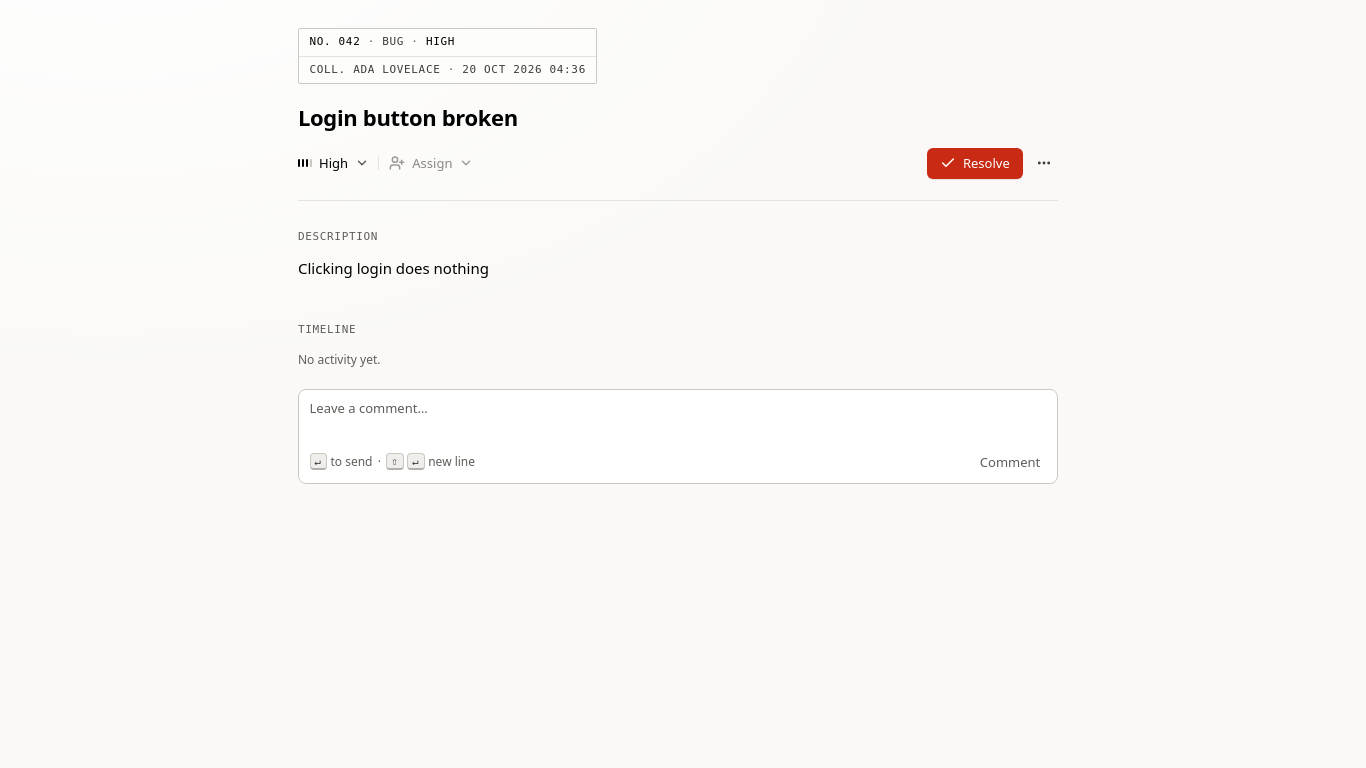
Scenario: BugDetail › Esc closes the popover
Click the button "Resolve": (975, 163) top-left (927, 148), bottom-right (1023, 179)
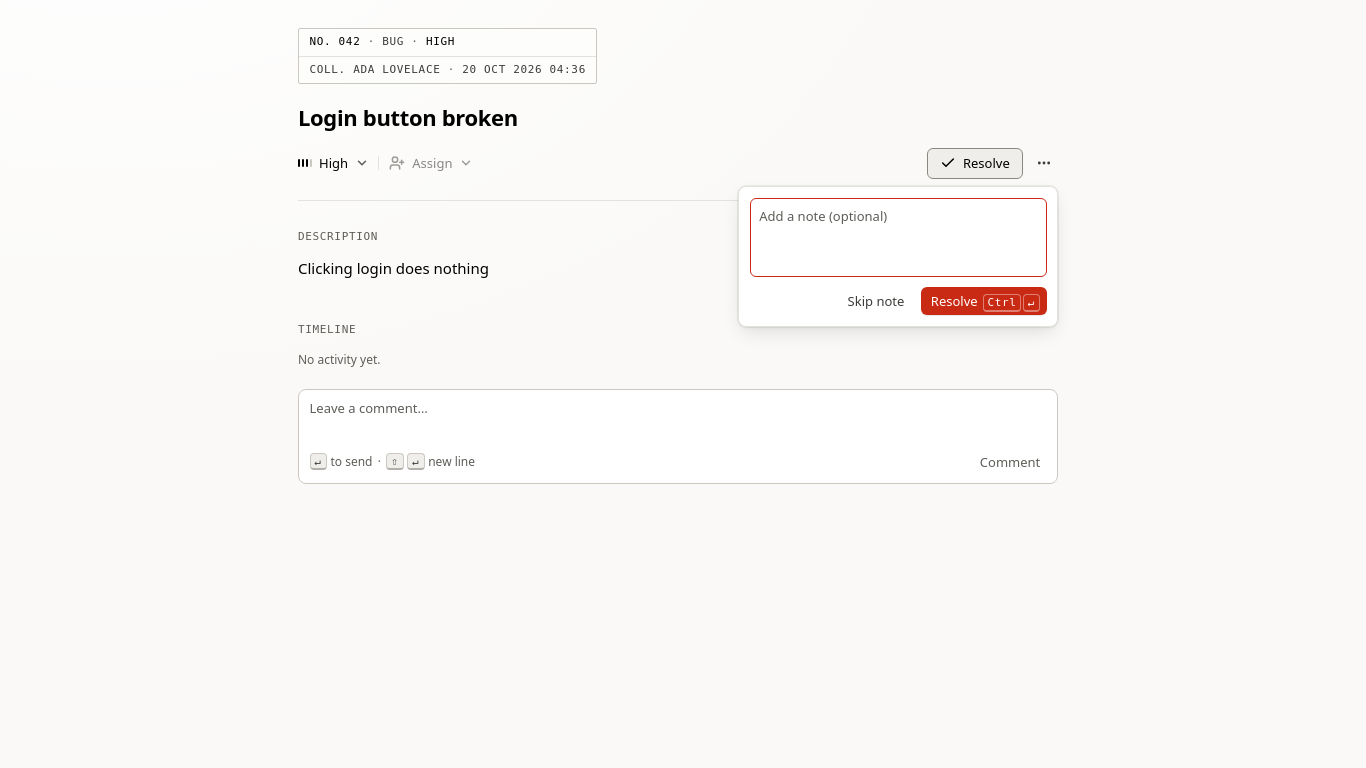
Press Escape
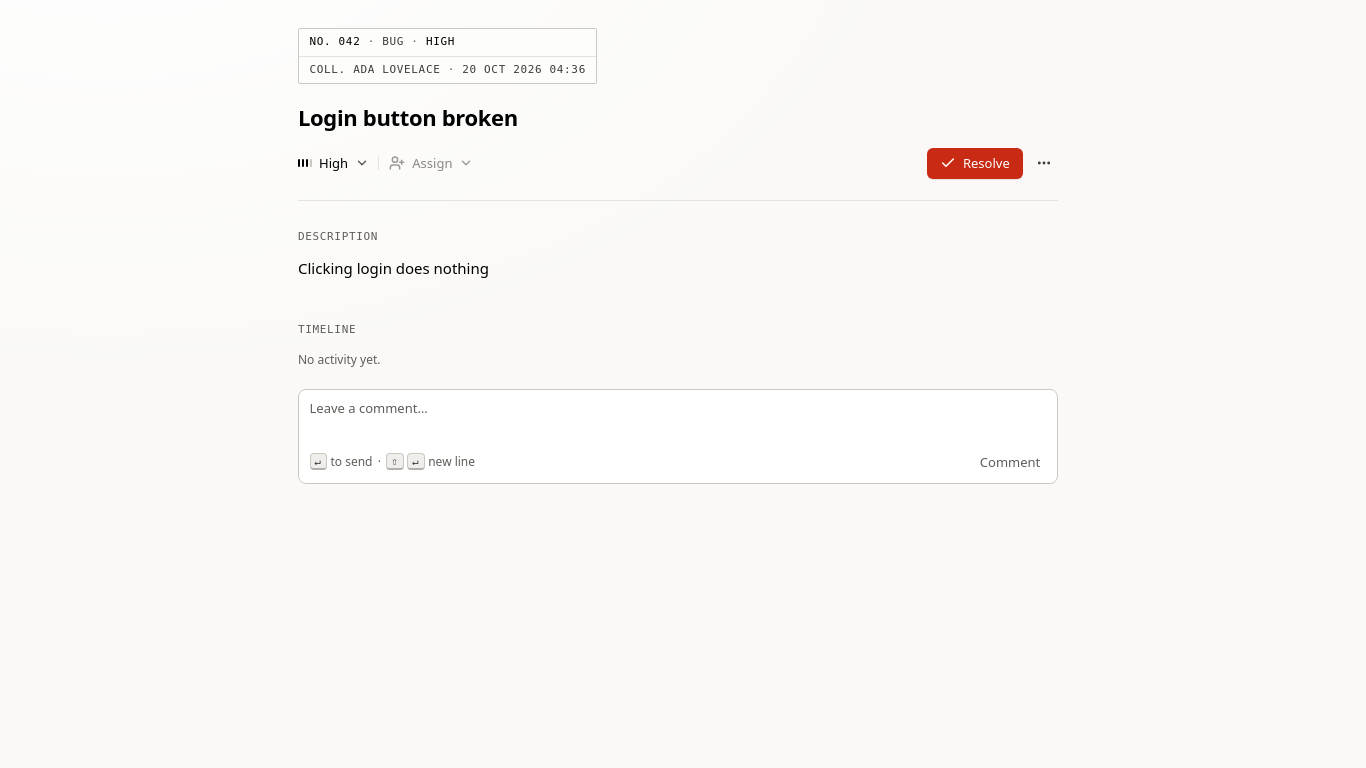
Check: the dialog is gone
